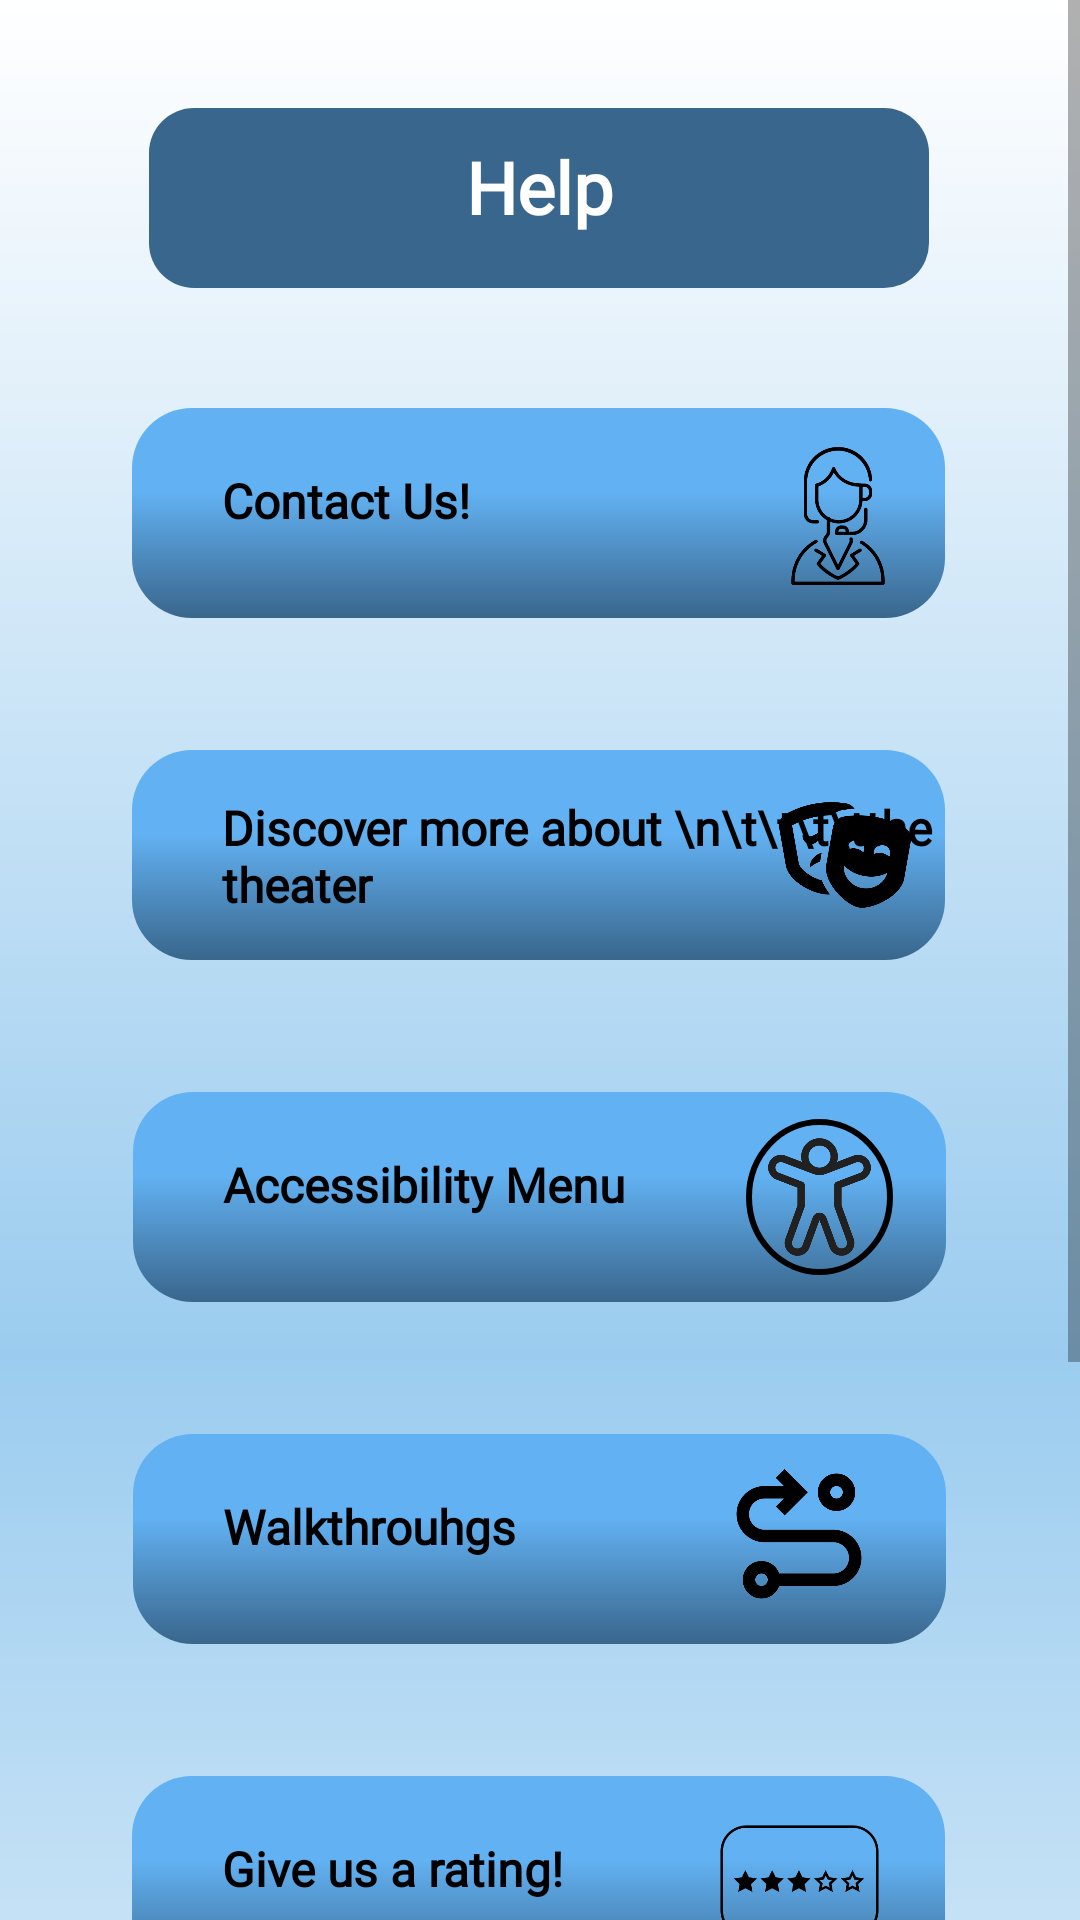

Icons on this 1080x1920 Android screen, each with the point to tap as point (x, y):
assistant: point (838, 516)
route: point (799, 1536)
